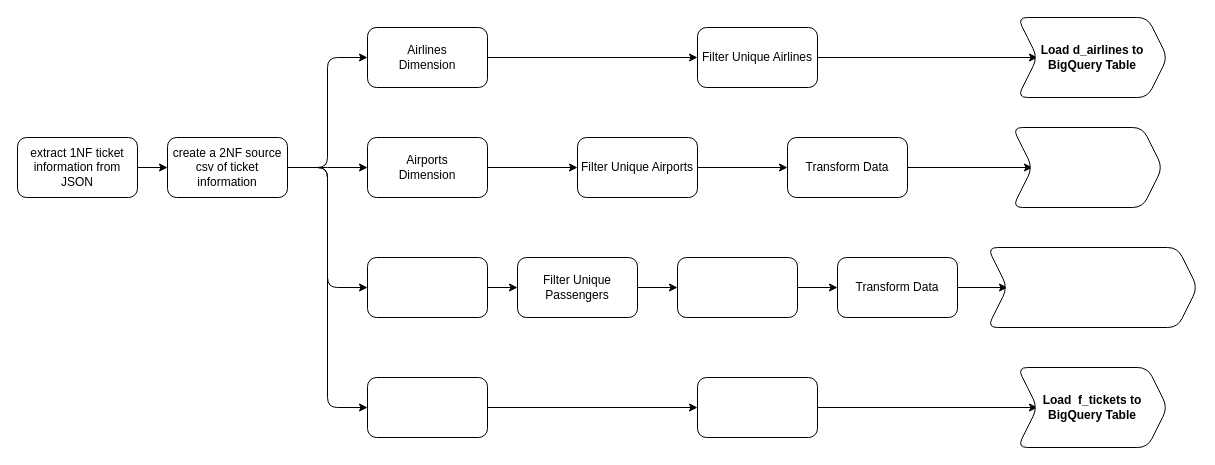
This 1215x465 diagram has some shape labels left out. Each missing label, with the centre of its shape:
"Assign UUID's" belongs at pixel 737 287.
"Load d_airports to BigQuery Table" belongs at pixel 1087 167.
"load SCD2_d_passengers to BigQuery table" belongs at pixel 1092 287.
"Lookup Passengers" belongs at pixel 757 407.
"Passengers Dimension" belongs at pixel 427 287.
"Ticket_Information Facts" belongs at pixel 427 407.
